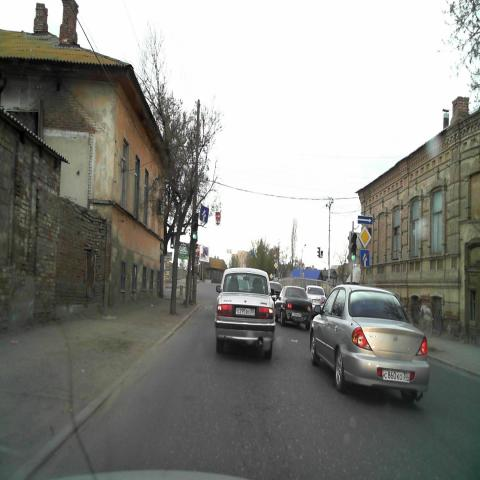5_7_1: (357, 215, 373, 226)
